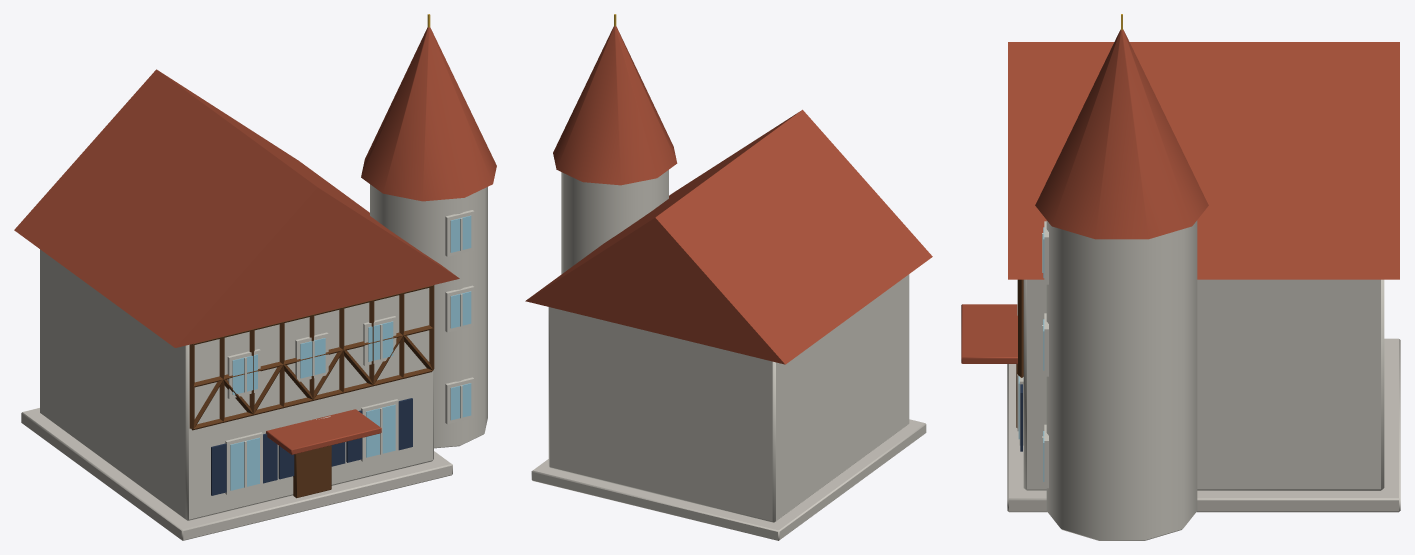
Rendered from 132_villa_anglo_normande_b.fbx.
3 views of the same model, side by side, from view 1: azimuth 30°, elevation 25°; view 2: azimuth 150°, elevation 25°; view 3: azimuth 270°, elevation 25° (orthographic). The views are drawn at different scales.
Visible parts, largest first — view 1: Murs, Toit, Tourelle, Vitres; view 2: Murs, Toit, Tourelle; view 3: Tourelle, Toit, Murs.
Part boxes in pixels (bbox=[...]): Murs: bbox=[21, 249, 452, 540]; Toit: bbox=[14, 69, 459, 347]; Tourelle: bbox=[361, 14, 496, 448]; Vitres: bbox=[230, 215, 471, 490]; Murs: bbox=[531, 274, 926, 540]; Toit: bbox=[525, 109, 932, 364]; Tourelle: bbox=[553, 14, 677, 274]; Tourelle: bbox=[1035, 14, 1208, 540]; Toit: bbox=[1008, 42, 1399, 279]; Murs: bbox=[961, 279, 1400, 512].
Size of the model in its own units: 4.48 by 5.04 by 3.92.
Materials: 1 (1 with a texture image).
